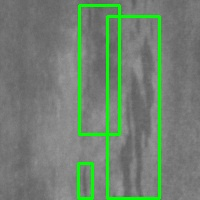inclusion: (107, 16, 159, 198), (79, 5, 119, 134), (78, 163, 92, 198)
